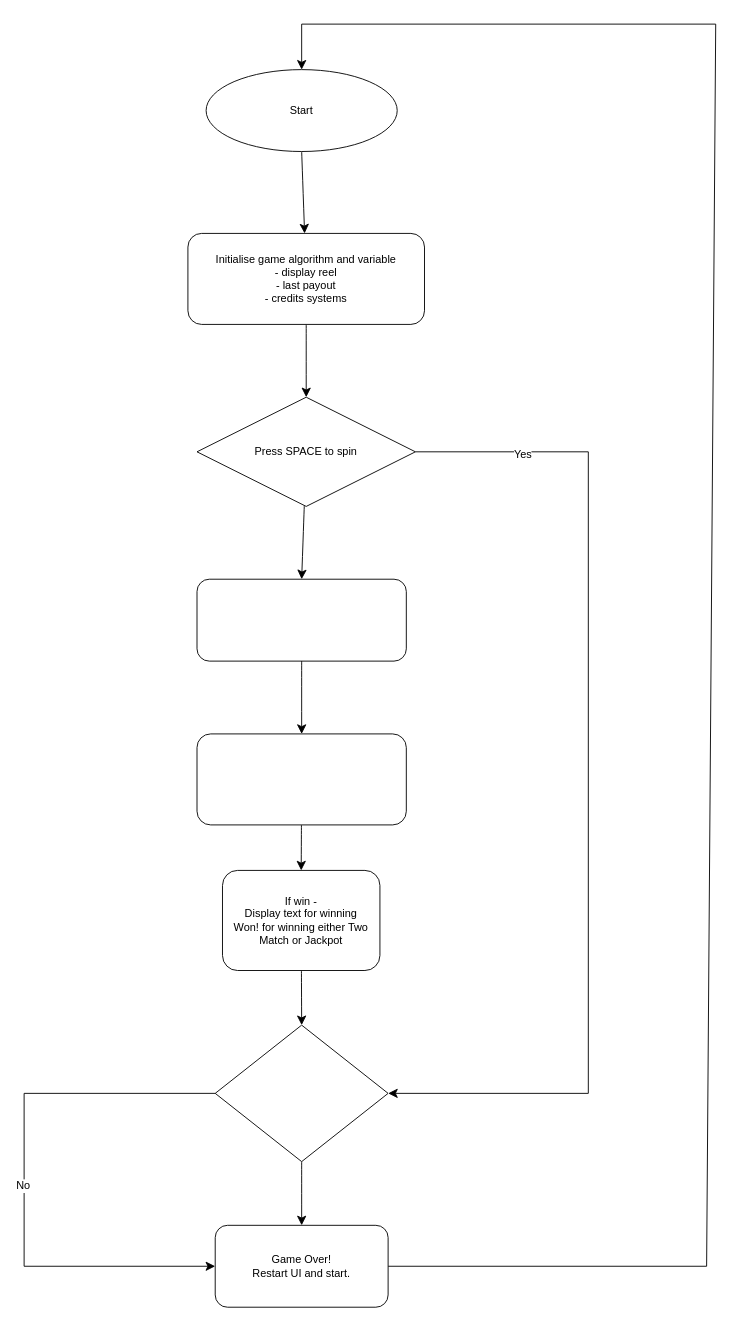
This 741x1323 diagram has some shape labels left out. Here are the shapes that lost their labels. From the top down, the centre of each, then its label:
point (301, 619): Spin Animation
point (301, 779): Call for Spin Function - Lock the display reels - Last payout
point (301, 1093): CREDITS. Payout added to last credit. If no credits, game stops
